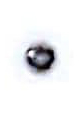cancer: (12, 31, 75, 90)
